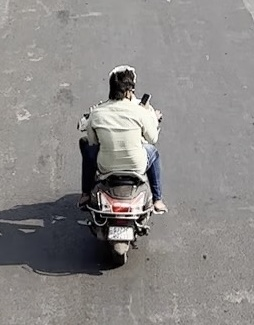BikeWithRider: (73, 63, 164, 266)
NoHelmet: (107, 65, 138, 105)
